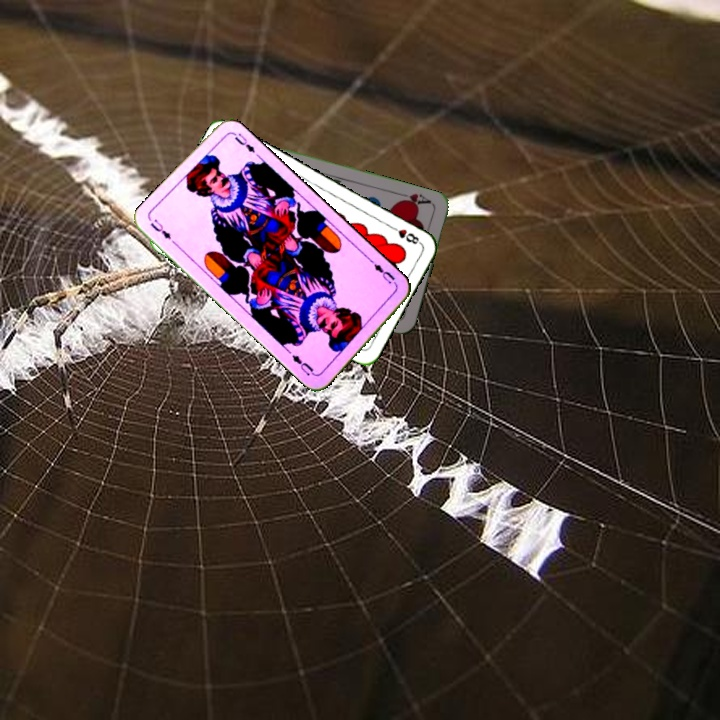EU: (367, 256, 398, 286), (146, 215, 174, 242)
H8: (386, 222, 424, 247)
HA: (395, 189, 434, 209)
